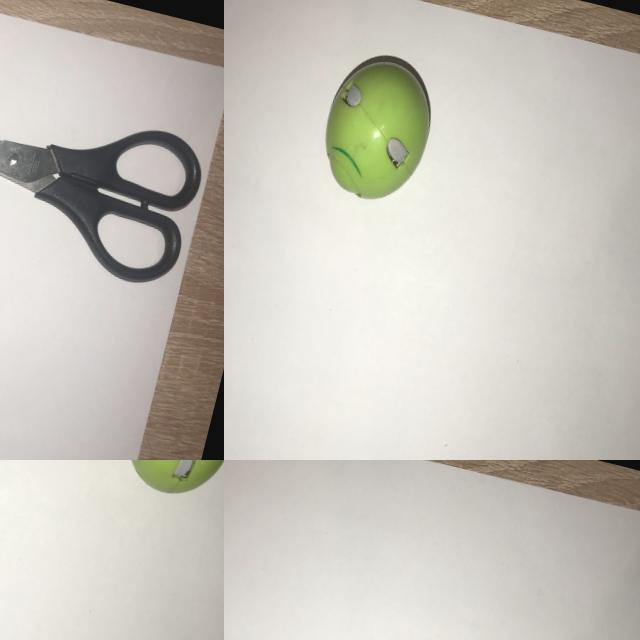scissors: (0, 58, 213, 300)
toy: (303, 36, 452, 222), (104, 460, 224, 516)
